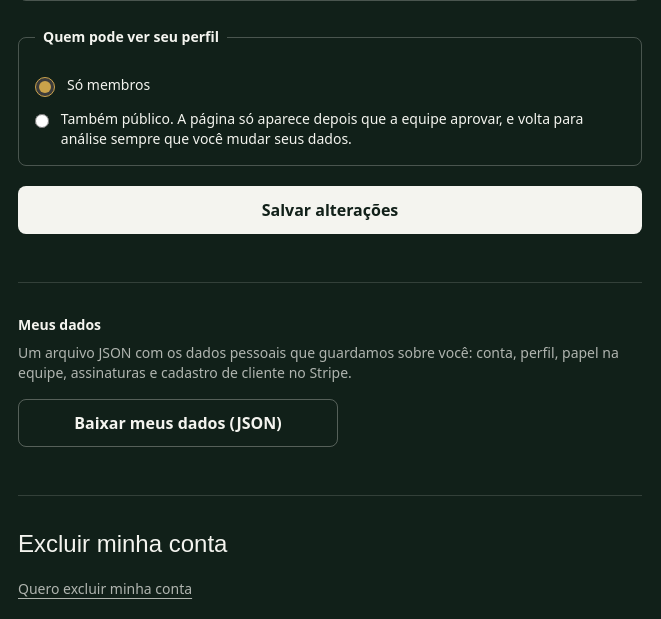
Scenario: bloco Excluir minha conta › erro aparece na tela e a conta não sai da tela
The width and height of the screenshot is (661, 619).
(page scrolled)
Click the button "Quero excluir minha conta" at (105, 589), box [18,579,192,599]
(page scrolled)
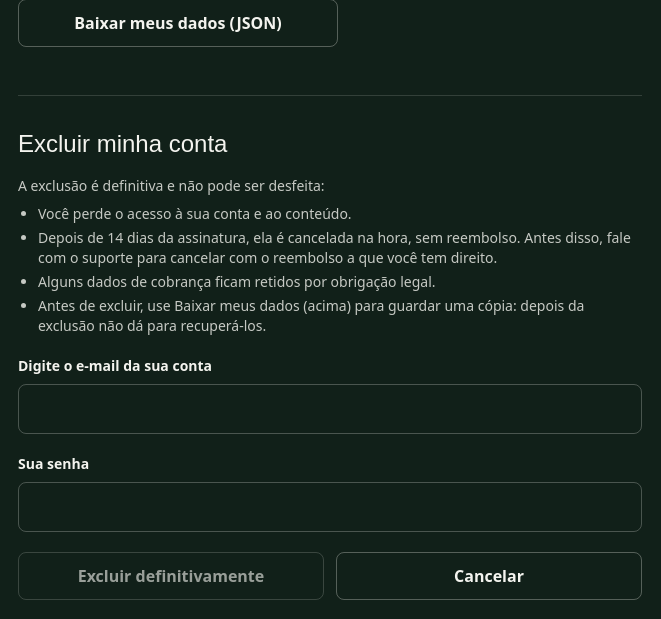
Type "a@b.com" into the field labelled "Digite o e-mail da sua conta" at (330, 409), box [18,384,642,434]
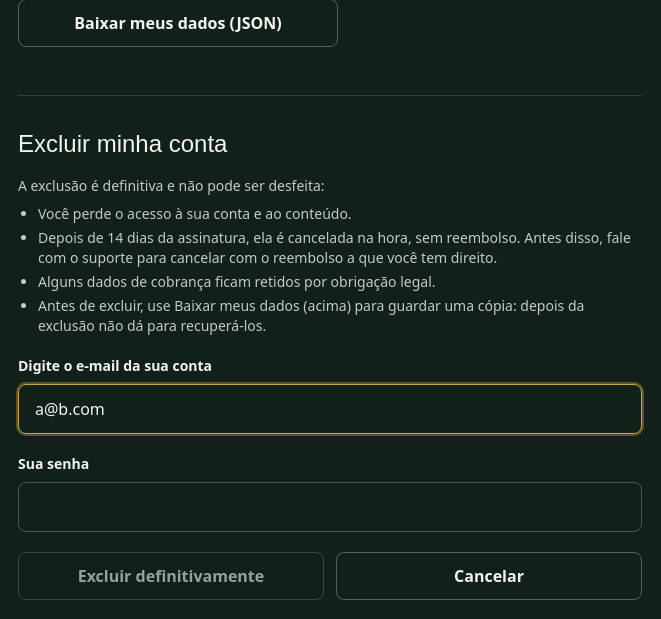
Type "senha_falsa" into the password field labelled "Sua senha" at (330, 507), box [18,482,642,532]
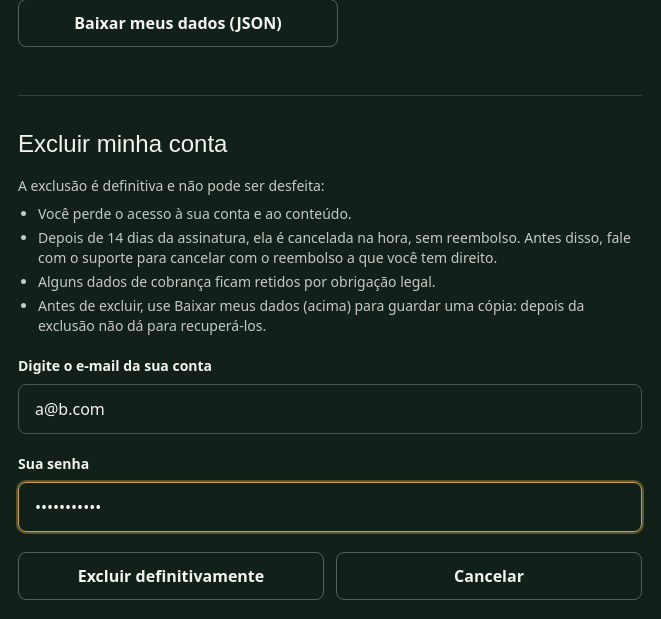
Click the button "Excluir definitivamente" at (171, 576), box [18,552,324,600]
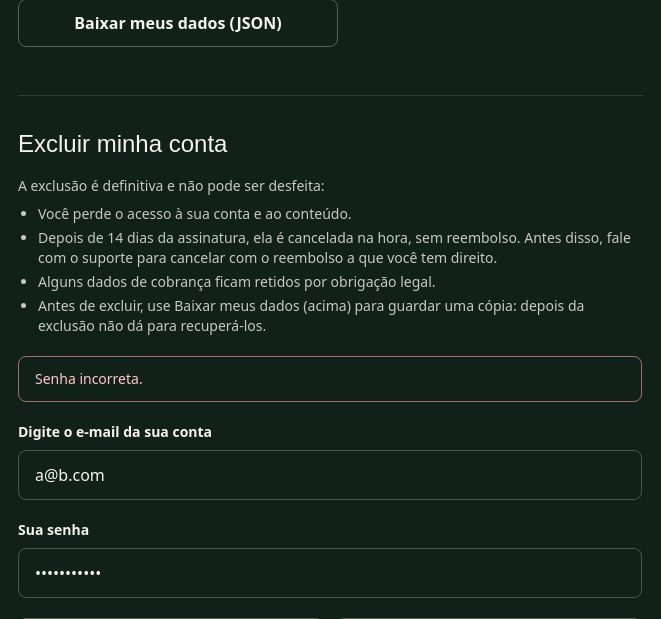
expect the message reads "Senha incorreta.": met, box [35,369,143,388]
